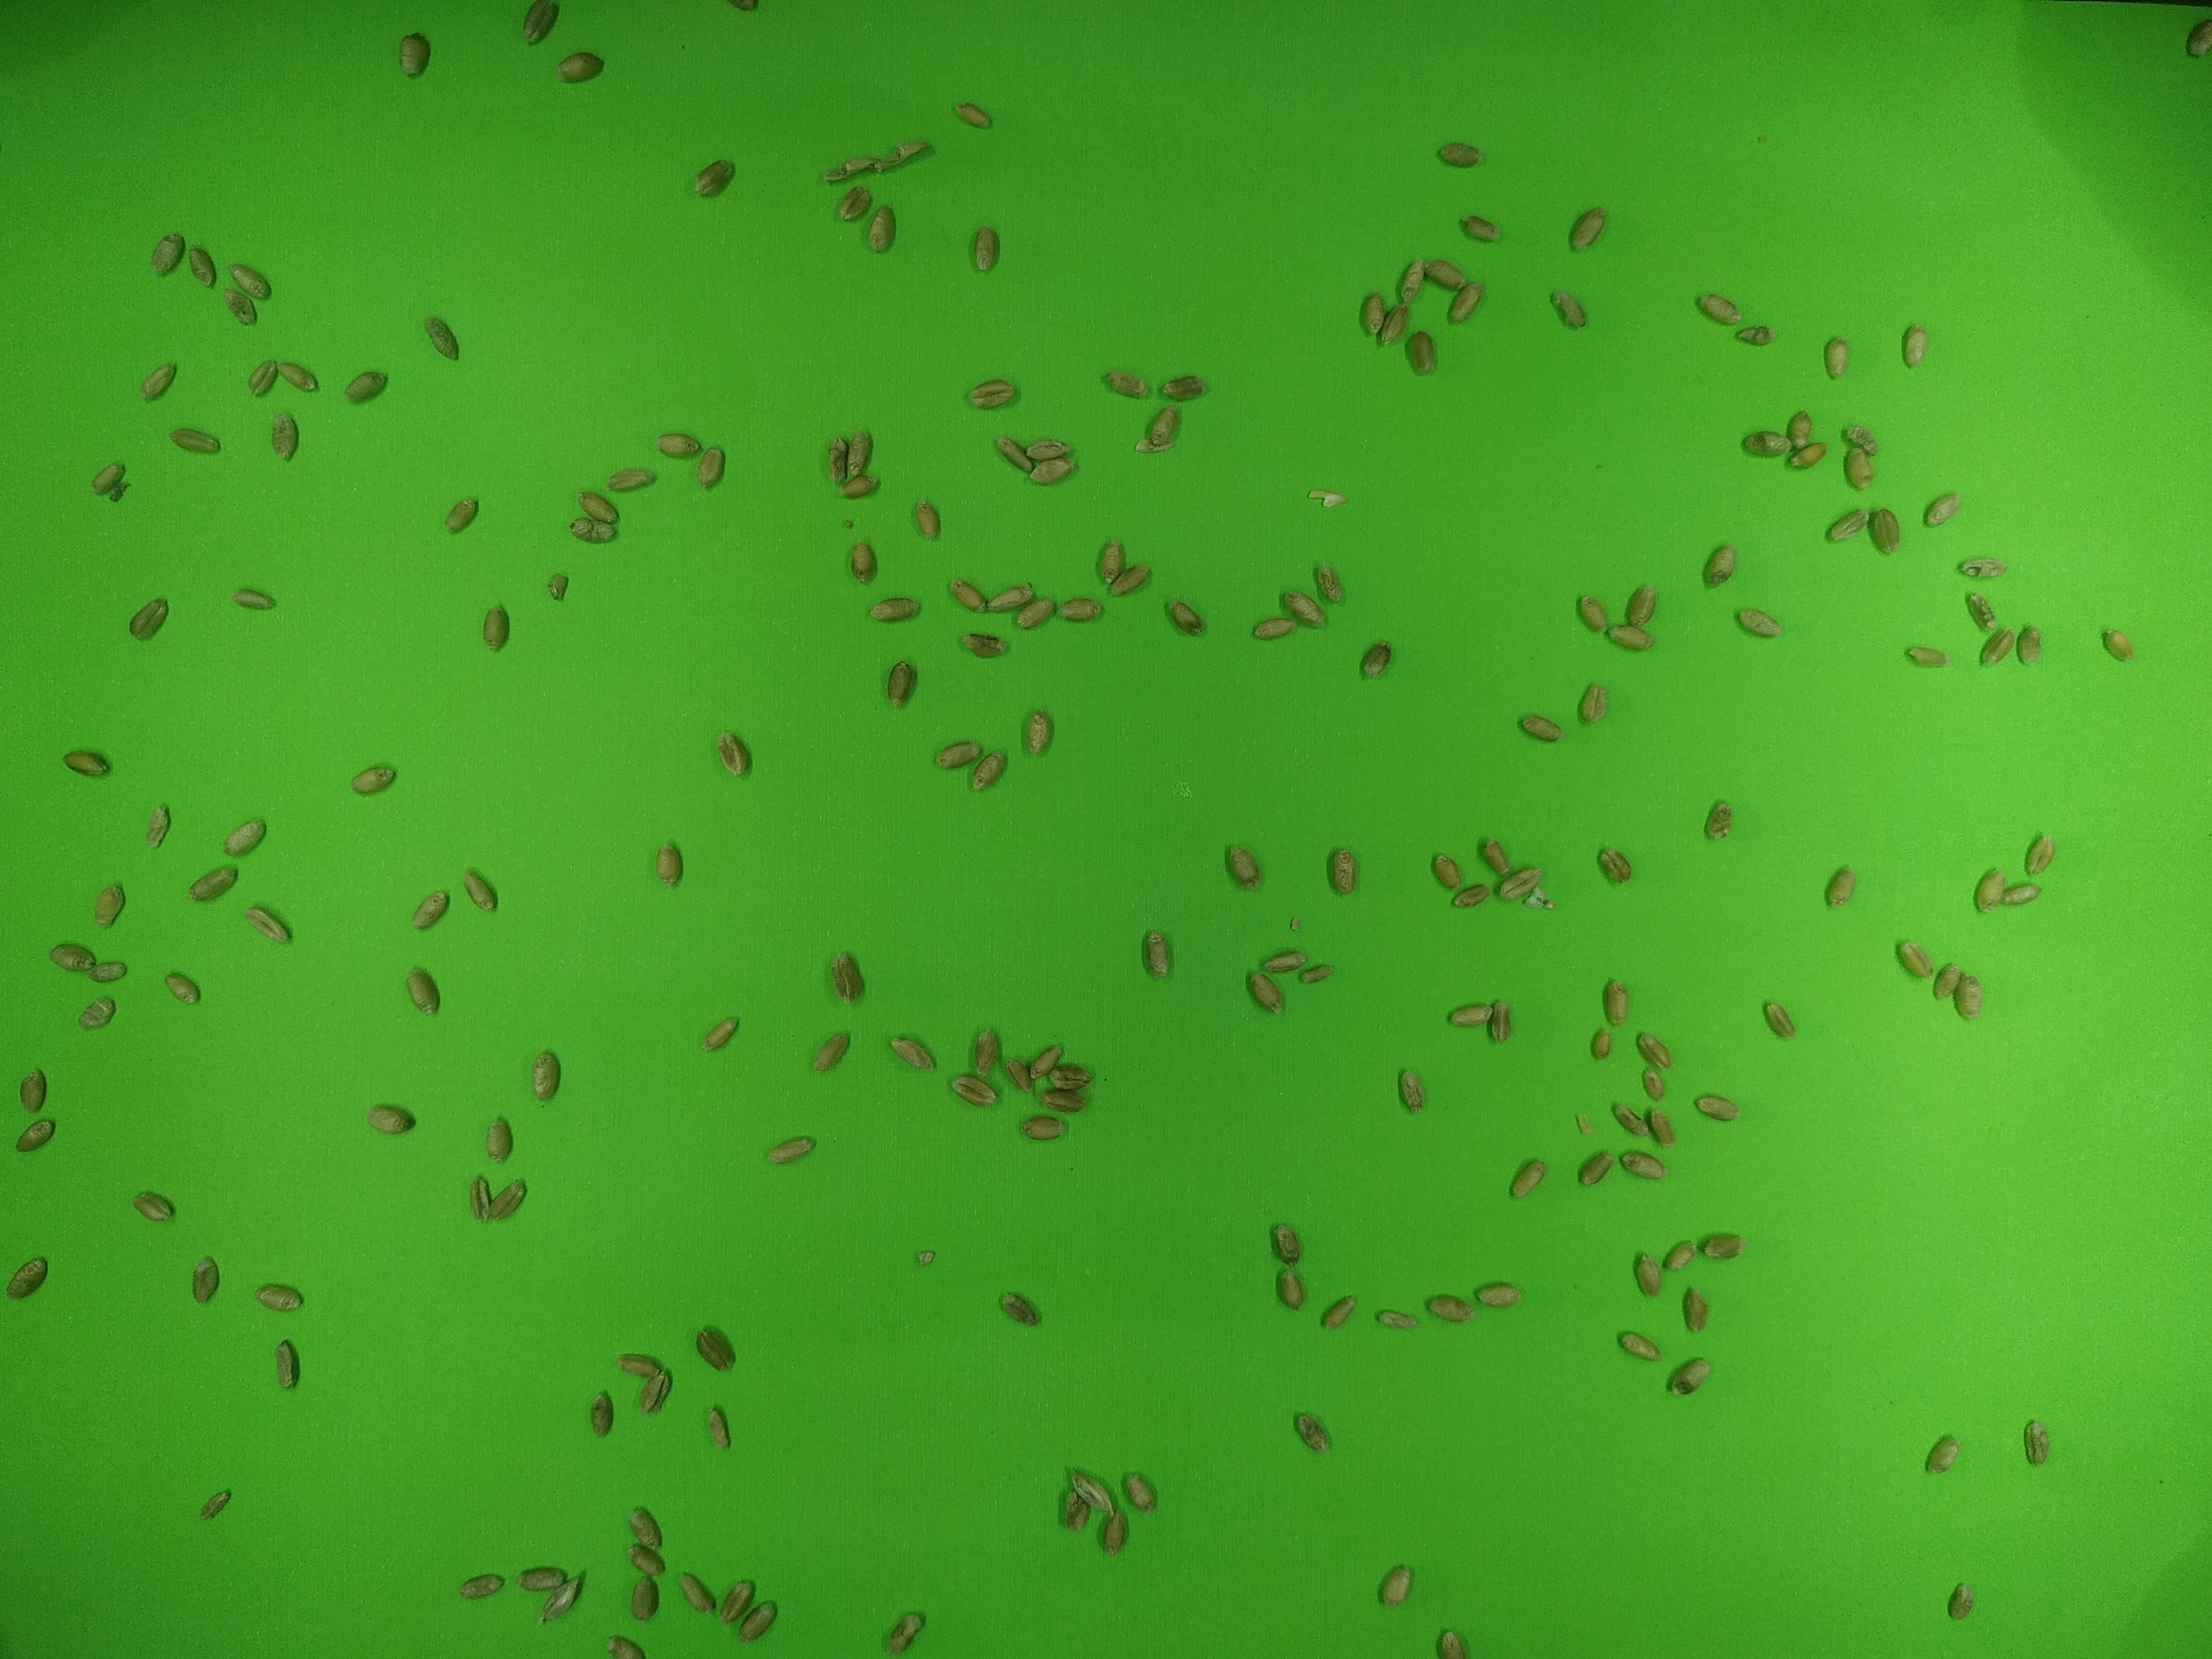bueno: (734, 1594, 778, 1649), (403, 963, 441, 1019), (13, 1063, 51, 1120), (810, 1029, 854, 1077), (530, 1043, 564, 1107), (395, 25, 429, 88), (246, 903, 293, 947), (1248, 969, 1286, 1023), (1568, 204, 1609, 254), (1676, 1285, 1715, 1338), (1598, 973, 1631, 1034), (1666, 1358, 1713, 1400), (1574, 679, 1616, 727), (1324, 841, 1359, 900), (422, 314, 462, 363), (947, 1071, 1000, 1109), (1946, 969, 1986, 1019), (129, 593, 169, 644), (558, 49, 607, 90), (1703, 539, 1739, 593), (1692, 289, 1743, 328), (189, 863, 239, 902), (1870, 505, 1905, 561), (1978, 623, 2017, 672), (696, 1324, 735, 1374), (227, 260, 273, 301), (1268, 1217, 1307, 1267), (145, 231, 185, 279), (487, 1176, 528, 1221), (889, 1035, 938, 1073), (1735, 602, 1782, 642), (1621, 1141, 1664, 1185), (1820, 867, 1862, 911), (1136, 932, 1173, 983), (1942, 1578, 1976, 1631), (1594, 845, 1636, 889), (970, 749, 1009, 795), (366, 1103, 419, 1137), (159, 968, 204, 1008), (2021, 1416, 2055, 1468), (2020, 831, 2059, 877), (1375, 1564, 1413, 1610), (1273, 1264, 1309, 1313), (1310, 564, 1352, 605), (1282, 588, 1325, 630), (223, 816, 267, 857), (1121, 1469, 1158, 1517), (1634, 1032, 1673, 1077), (691, 161, 737, 200), (1694, 1089, 1740, 1127), (1924, 1431, 1960, 1480), (92, 880, 127, 931), (1603, 621, 1657, 653), (243, 354, 282, 398), (584, 1391, 620, 1439), (522, 0, 561, 45), (271, 408, 301, 465), (46, 942, 100, 974), (1469, 1279, 1525, 1310), (702, 1405, 738, 1453), (716, 1582, 758, 1623), (1571, 592, 1612, 634), (948, 573, 988, 616), (485, 1113, 517, 1167), (1447, 999, 1499, 1032), (969, 222, 1001, 275), (1625, 579, 1657, 632), (653, 836, 683, 891), (1425, 1292, 1471, 1328), (1423, 255, 1466, 294), (1760, 1003, 1803, 1042), (62, 747, 112, 781), (995, 431, 1032, 476), (577, 487, 617, 528), (410, 890, 451, 931), (1358, 638, 1398, 679), (139, 363, 181, 402), (11, 1255, 50, 1297), (1015, 595, 1061, 631), (1973, 864, 2007, 912), (1898, 935, 1933, 982), (132, 1188, 176, 1225), (889, 658, 919, 712), (1480, 836, 1515, 883), (1358, 290, 1394, 336), (1319, 1293, 1359, 1333), (1145, 401, 1181, 447), (351, 762, 394, 799), (446, 491, 481, 538), (1500, 865, 1544, 901), (714, 731, 748, 778), (1225, 843, 1260, 890), (1824, 508, 1869, 544), (483, 602, 512, 657), (966, 377, 1017, 409), (73, 994, 116, 1031), (628, 1508, 664, 1552), (1406, 328, 1441, 374), (1743, 429, 1790, 463), (222, 287, 261, 328), (865, 206, 898, 255), (271, 1340, 301, 1392), (1520, 712, 1566, 746), (1000, 1291, 1041, 1329), (988, 582, 1042, 611), (344, 368, 389, 403), (677, 1572, 713, 1615), (1167, 598, 1204, 639), (1702, 1230, 1747, 1265), (254, 1280, 303, 1311), (170, 427, 220, 457), (1101, 369, 1151, 399), (1921, 491, 1964, 526), (1618, 1330, 1663, 1364), (695, 443, 727, 491), (1634, 1248, 1663, 1300), (970, 1027, 1000, 1078), (1097, 533, 1125, 587), (1104, 562, 1152, 594), (1842, 445, 1875, 491), (1447, 285, 1484, 324), (509, 1566, 566, 1592), (1457, 213, 1505, 244), (1787, 404, 1818, 452), (1935, 961, 1969, 1004), (465, 873, 498, 916), (1551, 291, 1589, 329), (2103, 622, 2137, 663), (630, 1573, 660, 1621), (871, 594, 920, 623), (1486, 998, 1516, 1045), (275, 363, 322, 394), (1506, 1162, 1546, 1198), (190, 1259, 220, 1307), (187, 246, 220, 289), (953, 98, 993, 133), (1029, 457, 1077, 486), (1999, 881, 2049, 909), (1026, 436, 1075, 465), (1660, 1238, 1699, 1274), (703, 1015, 738, 1054), (1379, 301, 1408, 349), (603, 467, 656, 493), (1264, 946, 1313, 973), (1001, 1056, 1042, 1088), (1790, 437, 1827, 473), (1613, 1099, 1651, 1135), (617, 1350, 664, 1378), (467, 1173, 493, 1224), (1019, 1113, 1068, 1140), (1578, 1150, 1613, 1188), (1396, 258, 1430, 297), (1025, 712, 1055, 757), (936, 741, 980, 771), (1031, 1044, 1066, 1081), (1901, 322, 1926, 373), (848, 541, 877, 586), (228, 583, 275, 611), (655, 431, 698, 460), (1825, 333, 1850, 383), (22, 1119, 58, 1153), (837, 185, 870, 222), (1437, 142, 1481, 169), (1452, 883, 1494, 911), (915, 498, 942, 542), (1644, 1108, 1674, 1146), (630, 1545, 666, 1577), (1251, 615, 1293, 643), (841, 475, 883, 503), (1375, 1307, 1424, 1331), (1062, 596, 1104, 623), (2017, 625, 2043, 670), (1432, 852, 1464, 888), (1436, 1627, 1472, 1659), (1906, 641, 1944, 670), (199, 1485, 230, 1519), (771, 1138, 810, 1164), (86, 960, 129, 984), (1868, 515, 1907, 541), (1589, 1027, 1614, 1067), (461, 1575, 502, 1599), (1640, 1067, 1666, 1104), (91, 462, 123, 492), (1300, 961, 1335, 984), (606, 1635, 639, 1659), (728, 492, 739, 496)
danado: (881, 1608, 930, 1656), (828, 953, 865, 1005), (1957, 550, 2007, 585), (142, 802, 173, 854), (1960, 589, 1999, 628), (1840, 421, 1882, 457), (1039, 1088, 1092, 1117), (641, 1366, 670, 1416), (961, 632, 1010, 661), (1160, 372, 1208, 401), (1399, 1066, 1426, 1117), (849, 422, 874, 478), (1048, 1061, 1093, 1091), (1296, 1414, 1329, 1454), (1705, 801, 1733, 847), (569, 519, 617, 545), (828, 435, 853, 483), (1734, 326, 1775, 347)
impureza: (826, 140, 928, 182), (1067, 1467, 1118, 1521), (537, 1572, 583, 1626), (1102, 1509, 1126, 1563), (1063, 1498, 1094, 1533), (1304, 487, 1352, 509), (546, 570, 571, 604), (1133, 437, 1176, 457), (1524, 883, 1552, 911), (106, 480, 133, 503)
